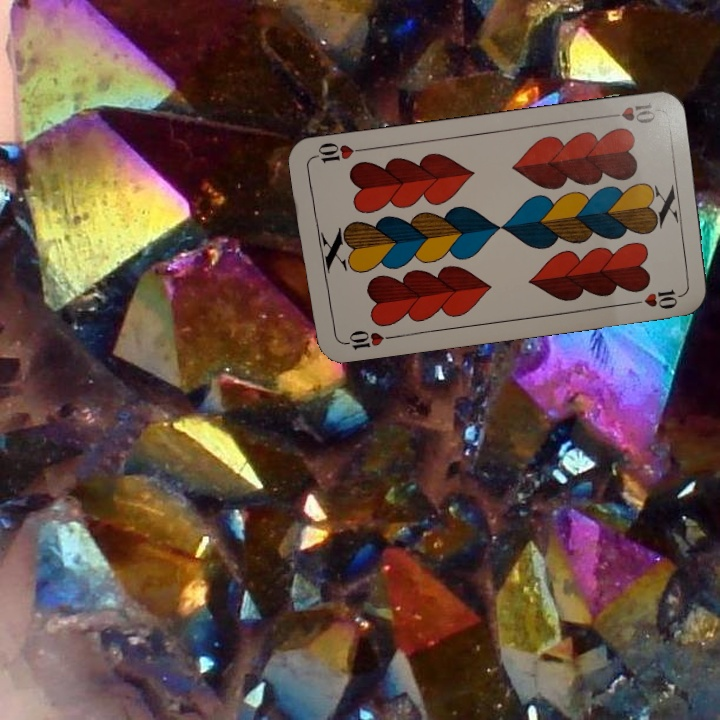H10: (600, 98, 658, 126), (337, 326, 396, 353)
